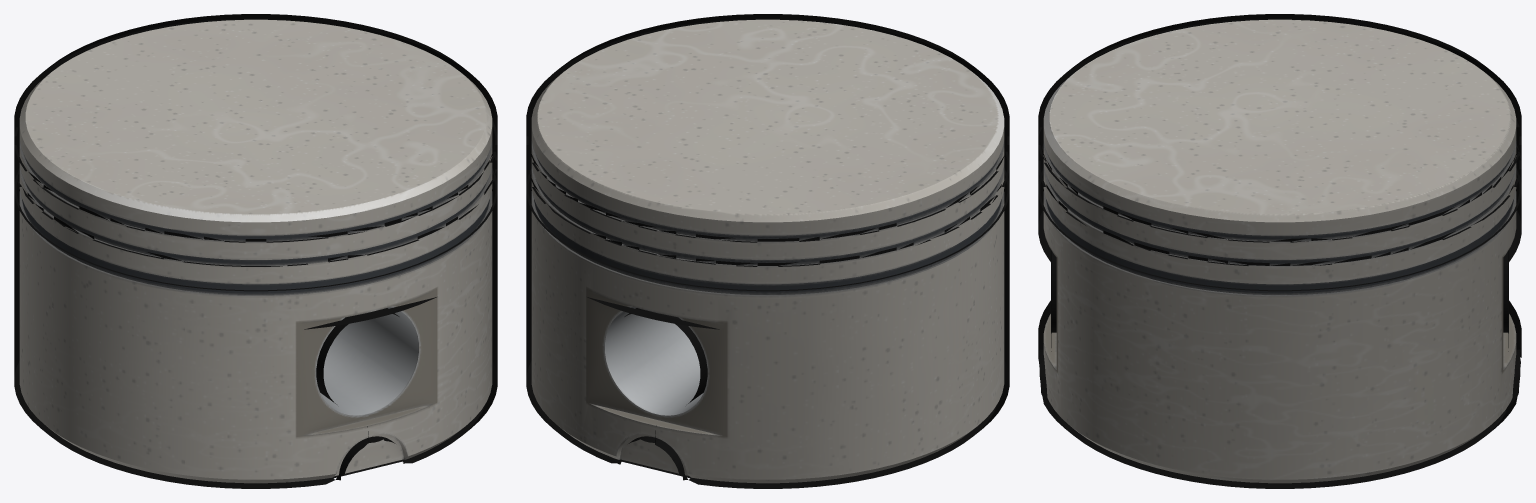
File: PistonRig.fbx
3 views of the same model, side by side, from view 1: azimuth 30°, elevation 25°; view 2: azimuth 150°, elevation 25°; view 3: azimuth 270°, elevation 25° (orthographic).
Parts seen in each view (by area): view 1: PistonRig; view 2: PistonRig; view 3: PistonRig.
Part boxes in pixels (x1,y1,x2,y2): PistonRig: (14, 14, 497, 488); PistonRig: (526, 14, 1009, 488); PistonRig: (1038, 14, 1521, 488).
Bounding box in the file's own units: 0.0813 × 0.0518 × 0.0814.
Materials: 1 (1 with a texture image).
